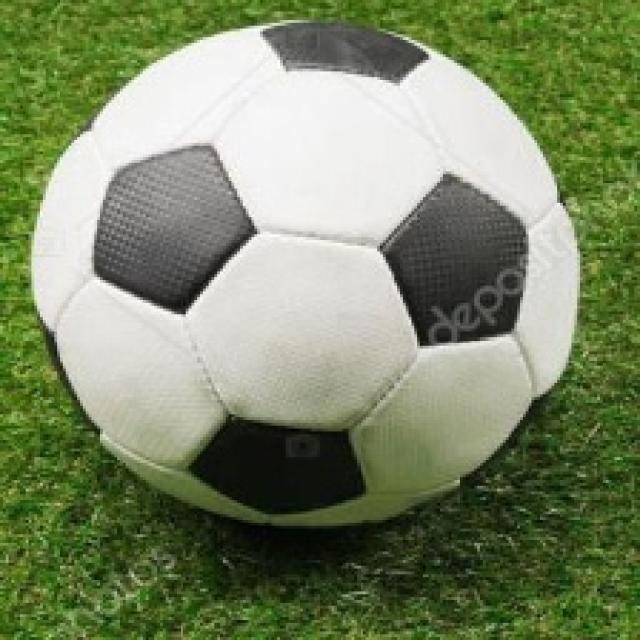ball: (33, 22, 582, 525)
